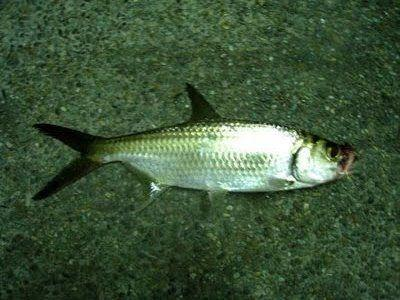Indo-Pacific Tarpon: (32, 83, 359, 218)
